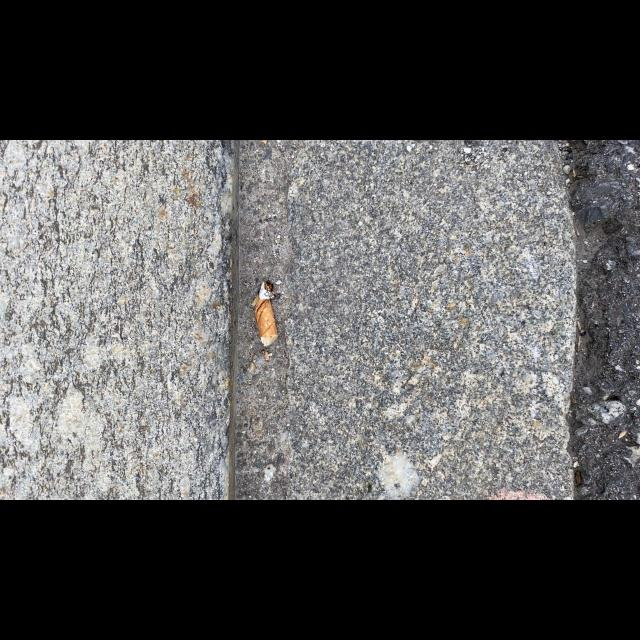cigarette: (255, 280, 278, 348)
